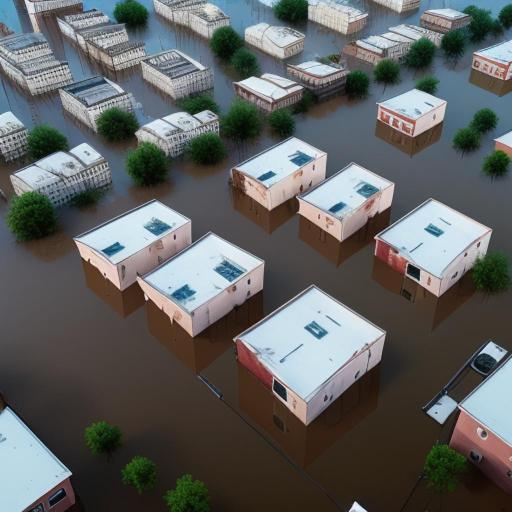flood: (0, 160, 512, 512), (298, 52, 512, 256), (210, 0, 512, 75), (0, 72, 131, 207), (40, 16, 177, 120), (128, 0, 234, 111), (443, 468, 512, 512), (83, 0, 117, 16)
house: (227, 280, 391, 430), (421, 330, 512, 506), (132, 232, 270, 344), (370, 196, 498, 300), (74, 198, 192, 292), (229, 132, 332, 228), (1, 394, 80, 512), (295, 161, 401, 241), (10, 138, 108, 210), (2, 32, 74, 98), (136, 108, 222, 162), (59, 78, 138, 132), (139, 48, 212, 104), (64, 18, 142, 68), (377, 88, 447, 142), (235, 68, 303, 114), (288, 58, 350, 104), (348, 30, 416, 70), (248, 22, 306, 65), (470, 33, 510, 95), (420, 6, 474, 48), (311, 2, 373, 38), (0, 109, 30, 164), (188, 3, 230, 42), (492, 128, 512, 170)
